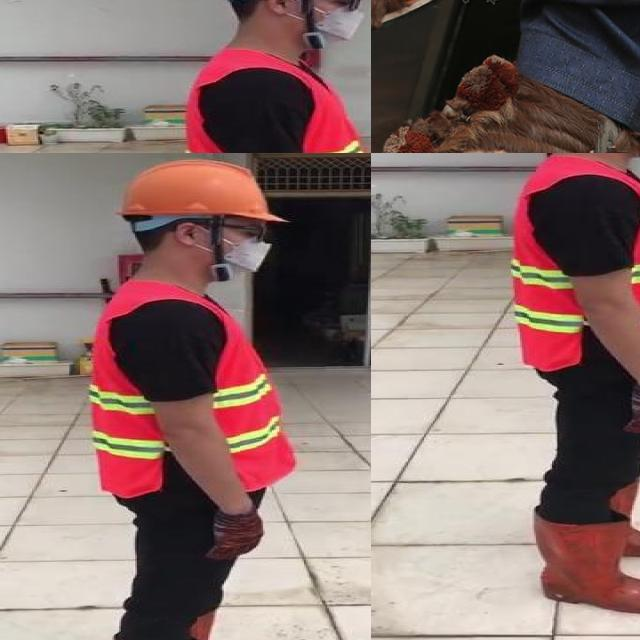Sandals: (371, 55, 640, 153)
boots: (532, 507, 640, 615), (195, 611, 275, 640)
face_mask: (196, 213, 279, 280), (296, 0, 371, 46)
hand_glove: (204, 510, 265, 558), (621, 386, 640, 433)
head_helmet: (114, 154, 272, 220)
person: (67, 156, 316, 640), (475, 153, 640, 611), (162, 0, 371, 153)
vest: (91, 281, 293, 498), (511, 158, 640, 372), (184, 51, 371, 153)
